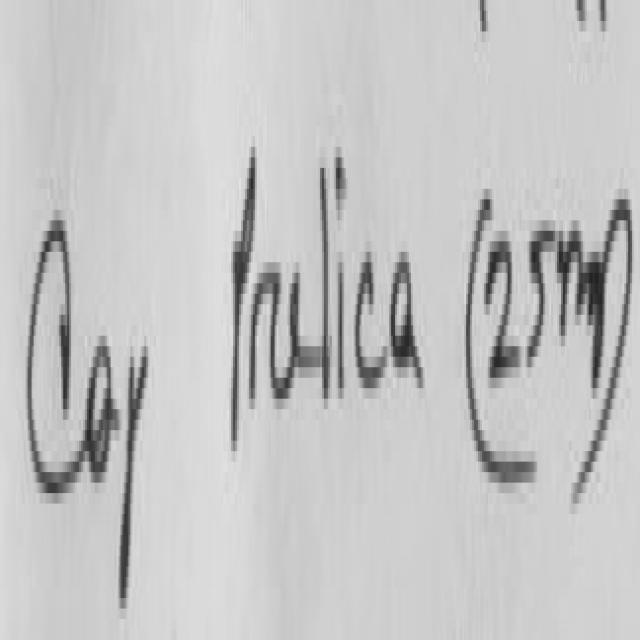2: (486, 241, 521, 372)
5: (529, 231, 556, 362)
C: (28, 220, 87, 493)
P: (233, 147, 255, 446)
a: (388, 252, 425, 383), (87, 346, 119, 463)
c: (356, 252, 387, 396)
g: (587, 247, 607, 372)
i: (280, 256, 314, 396), (338, 252, 344, 393), (339, 147, 348, 215)
l: (323, 168, 330, 393)
m: (555, 204, 594, 350)
p: (120, 314, 165, 603)
r: (251, 262, 293, 399)
